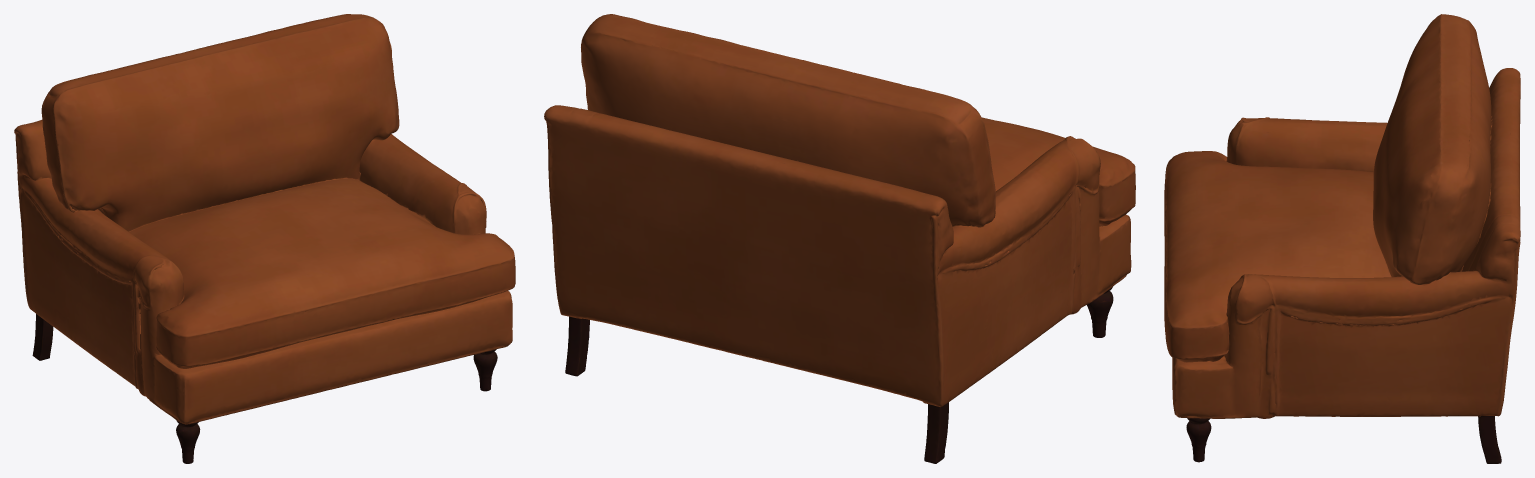
File: chair.glb
3 renders of one model, left to right at view 1: azimuth 30°, elevation 25°; view 2: azimuth 150°, elevation 25°; view 3: azimuth 270°, elevation 25°, orthographic. The views are drawn at different scales.
Parts seen in each view (by area): view 1: world; view 2: world; view 3: world.
Boxes of the visible parts, <box> form: world: <box>14,14,515,463</box>; world: <box>544,14,1135,463</box>; world: <box>1164,14,1520,463</box>.
Size of the model in its own units: 0.9981 by 0.7967 by 0.8672.
1 material, 1 textured.
